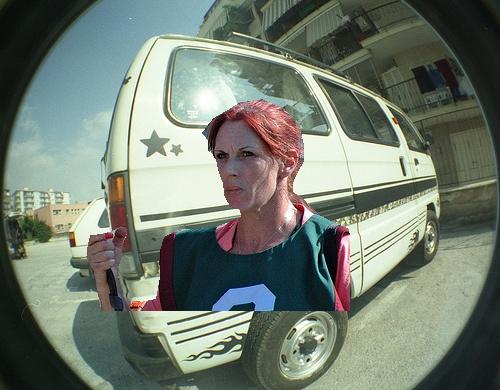tampered: (87, 100, 350, 311)
